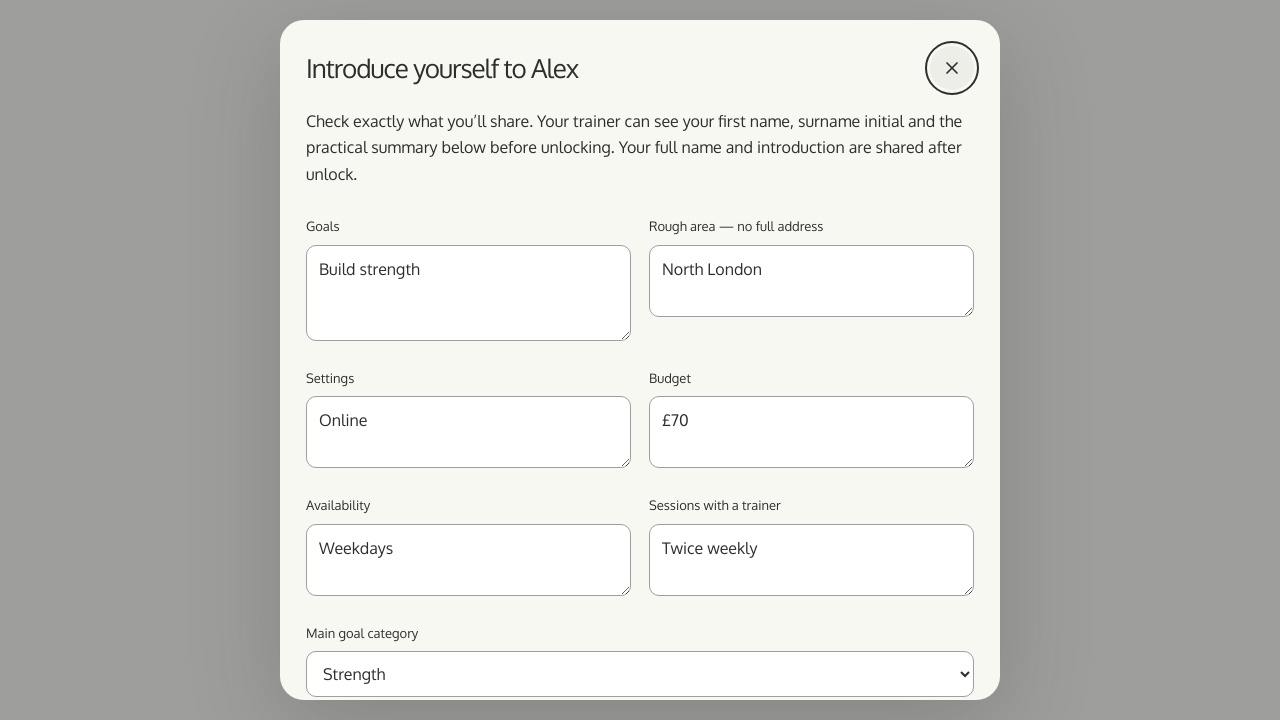
live pilot interaction states › requires disclosure confirmation and sends the trainee-corrected summary
This screenshot has width=1280, height=720.
Replace the text in the text box labelled "Goals" with "Build strength for hiking": point(468, 293) [306,245,631,341]
(page scrolled)
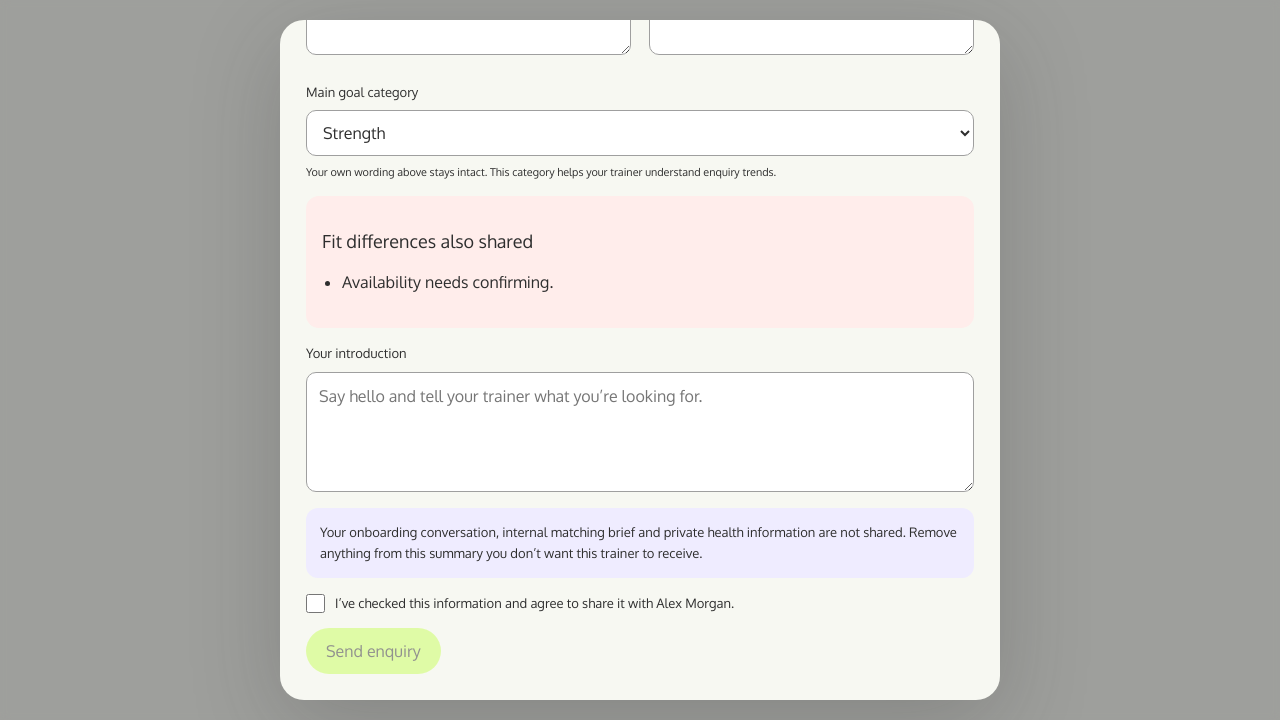
In the text box labelled "Your introduction": point(640, 432) [306,372,974,492], type "Hello Alex, I’d like to get started."
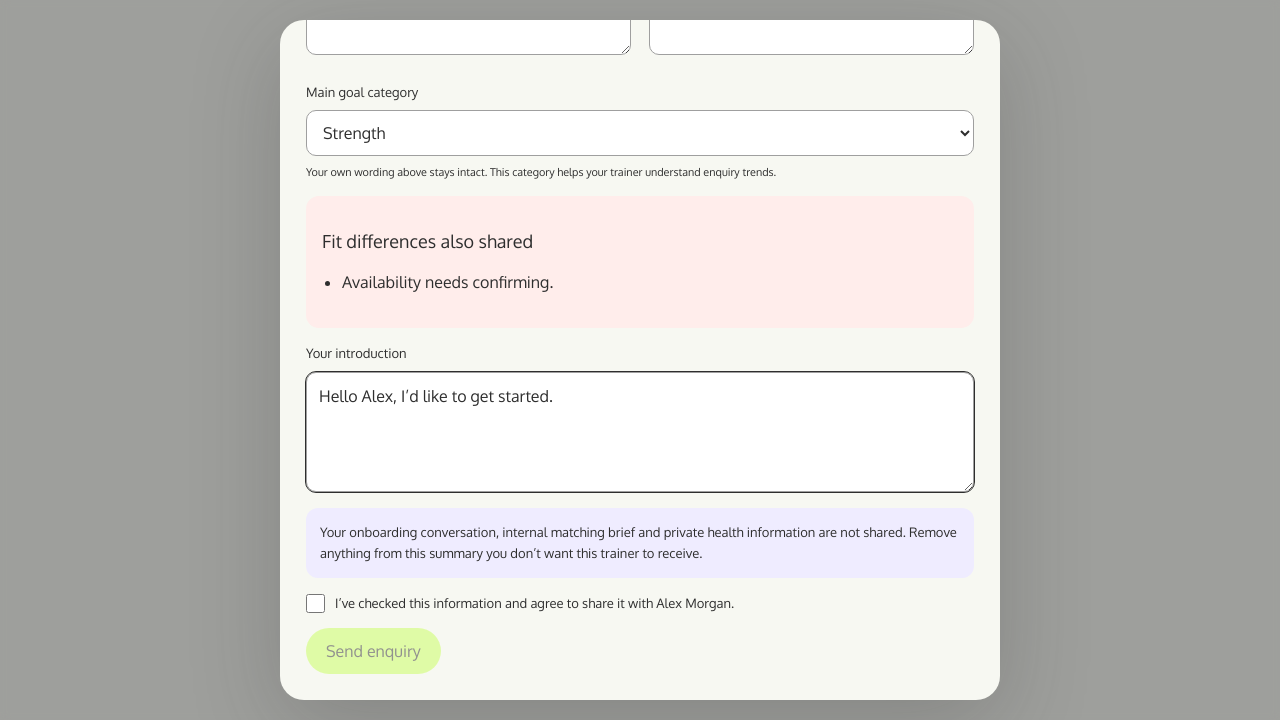
Click the checkbox: point(316, 604) [306,594,325,613]
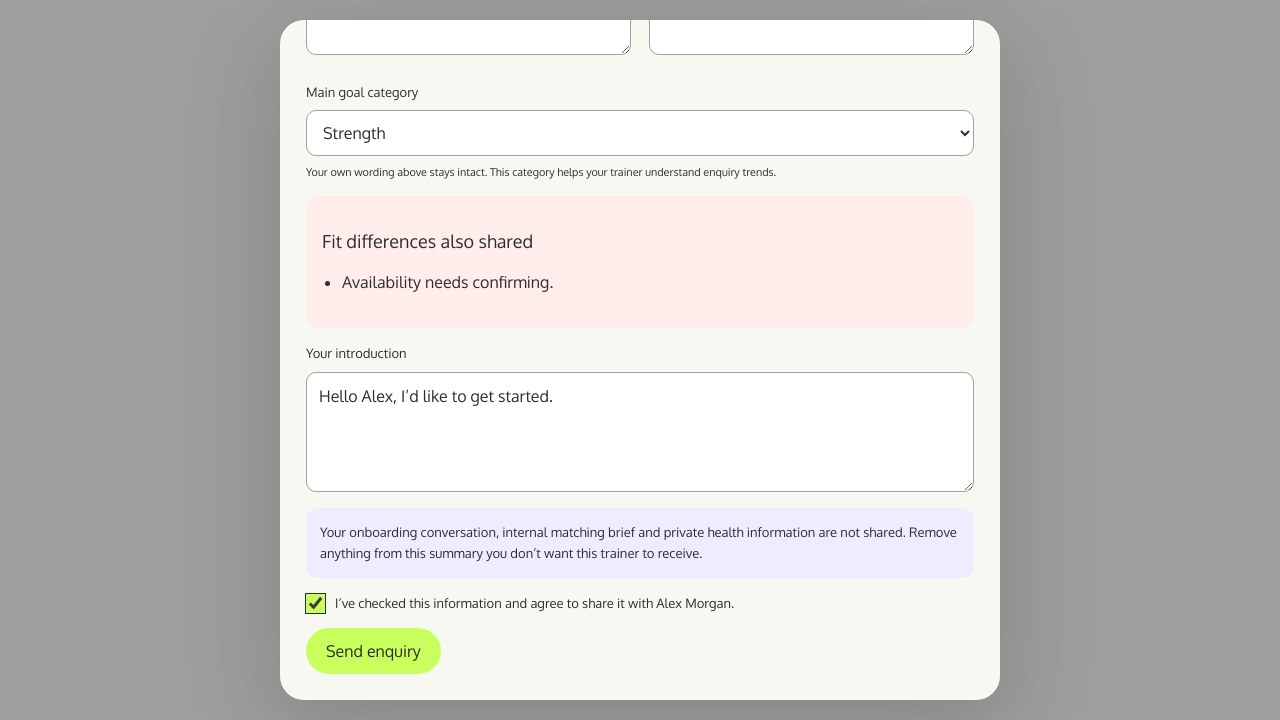
Click the button "Send enquiry": point(373, 651) [306,628,441,674]
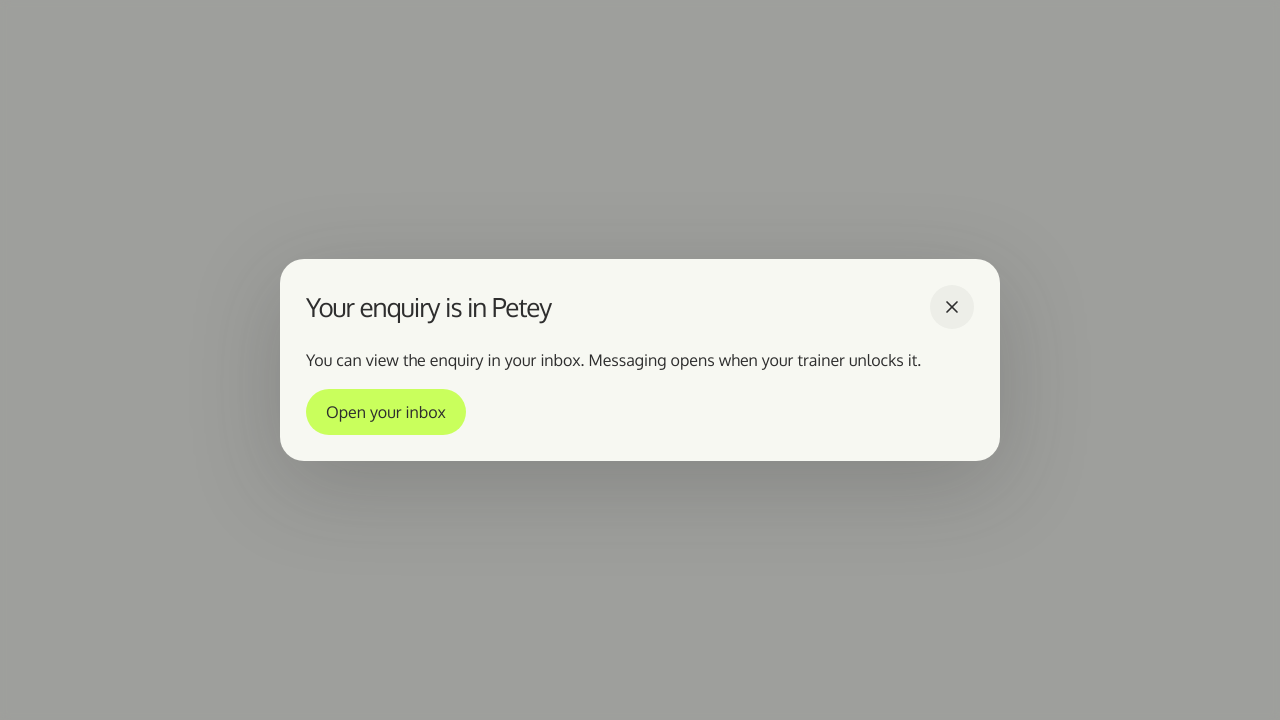
Expected: the link "Open your inbox" is shown, [306,389,466,435]
